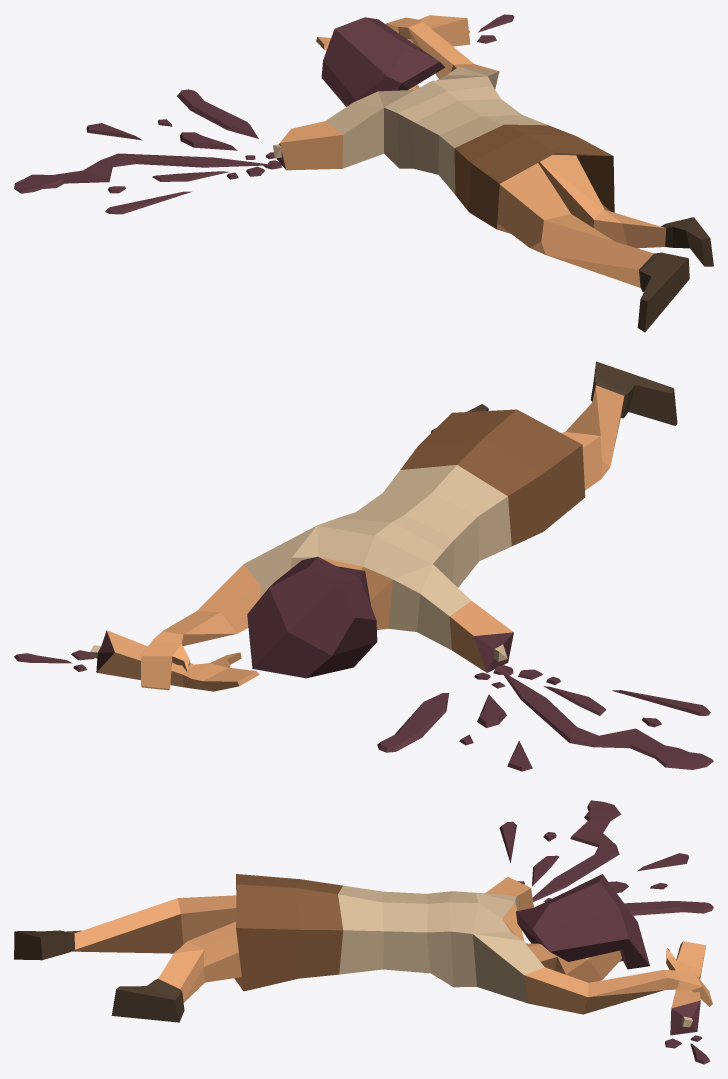
Rendered from woman-casual-dead-a.fbx.
3 views of the same model, one above another, from view 1: azimuth 30°, elevation 25°; view 2: azimuth 150°, elevation 25°; view 3: azimuth 270°, elevation 25° (orthographic). The views are drawn at different scales.
Visible parts, largest first — view 1: woman-casual-dead-a; view 2: woman-casual-dead-a; view 3: woman-casual-dead-a.
Boxes of the visible parts, left/top/right/bottom form: woman-casual-dead-a: left=14, top=14, right=713, bottom=332; woman-casual-dead-a: left=14, top=361, right=713, bottom=771; woman-casual-dead-a: left=14, top=800, right=713, bottom=1064.
Bounding box in the file's own units: 1.82 × 0.321 × 2.06.
